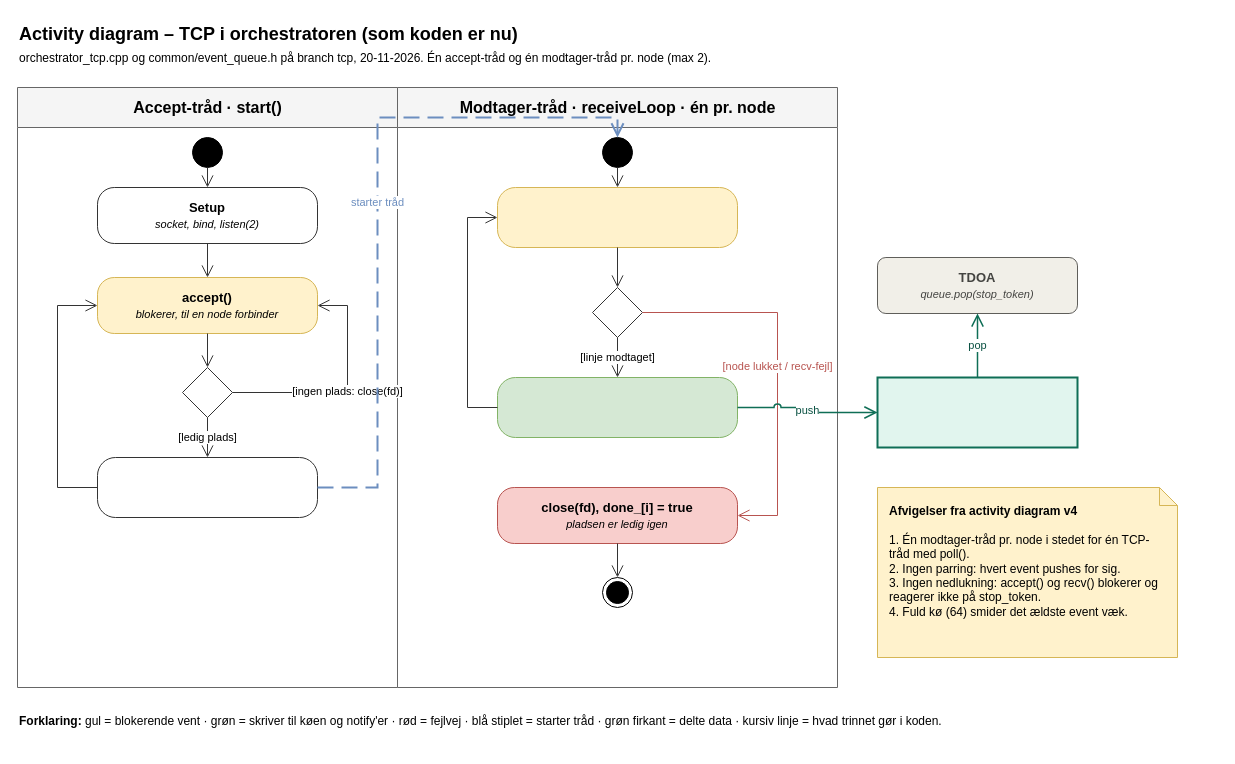
Image size: 1235x764. Some labels were removed from this diagram. Each missing label, with the centre of its shape:
"EventQueue [mutex_ · cv_] · max 64, fuld → ældste smides" goes at pixel 977 412.
"jsonToStruct + pushToQueue ugyldig JSON springes over · push → notify" goes at pixel 617 407.
"recieveJson() recv() indtil der er en hel linje (\n)" goes at pixel 617 217.
"Start modtager-tråd join gammel tråd, std::thread(receiveLoop, fd, i)" goes at pixel 207 487.
